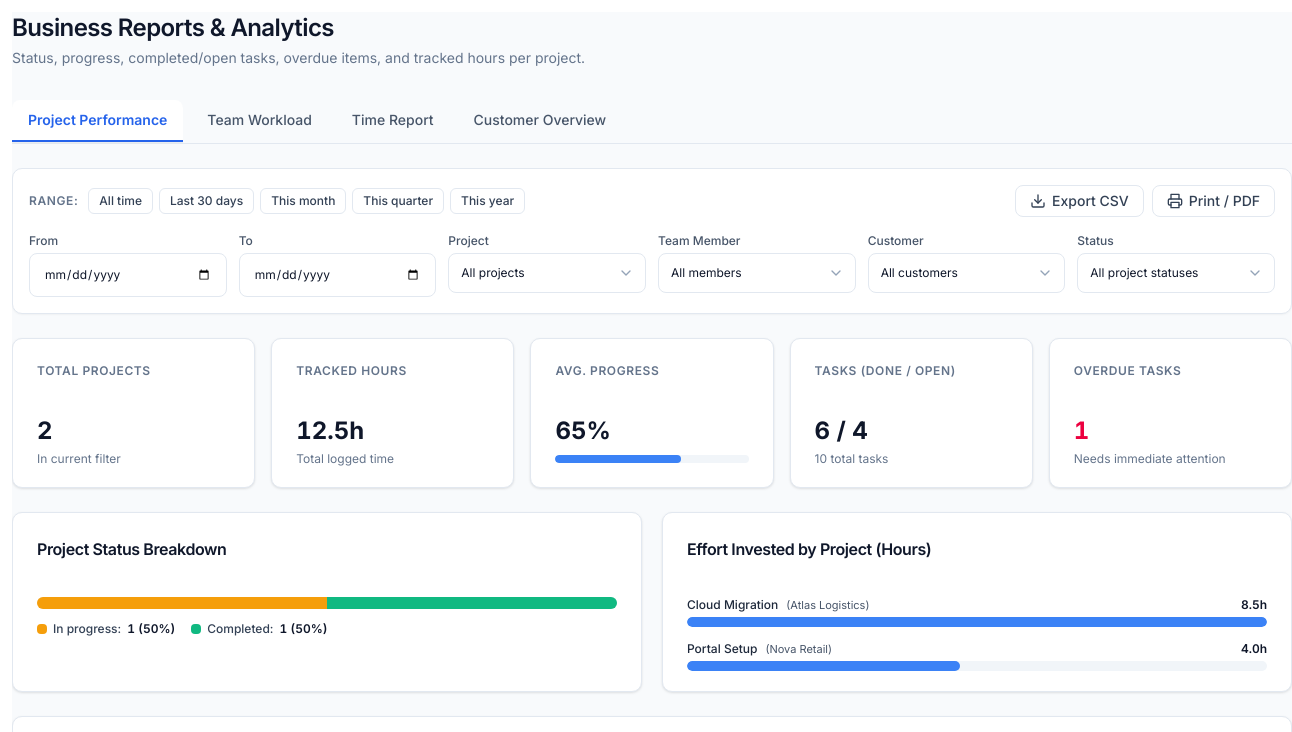
ReportsPage › applies date presets and updates filter state
Click the button "Last 30 days".
click(206, 201)  # box [159,188,254,214]
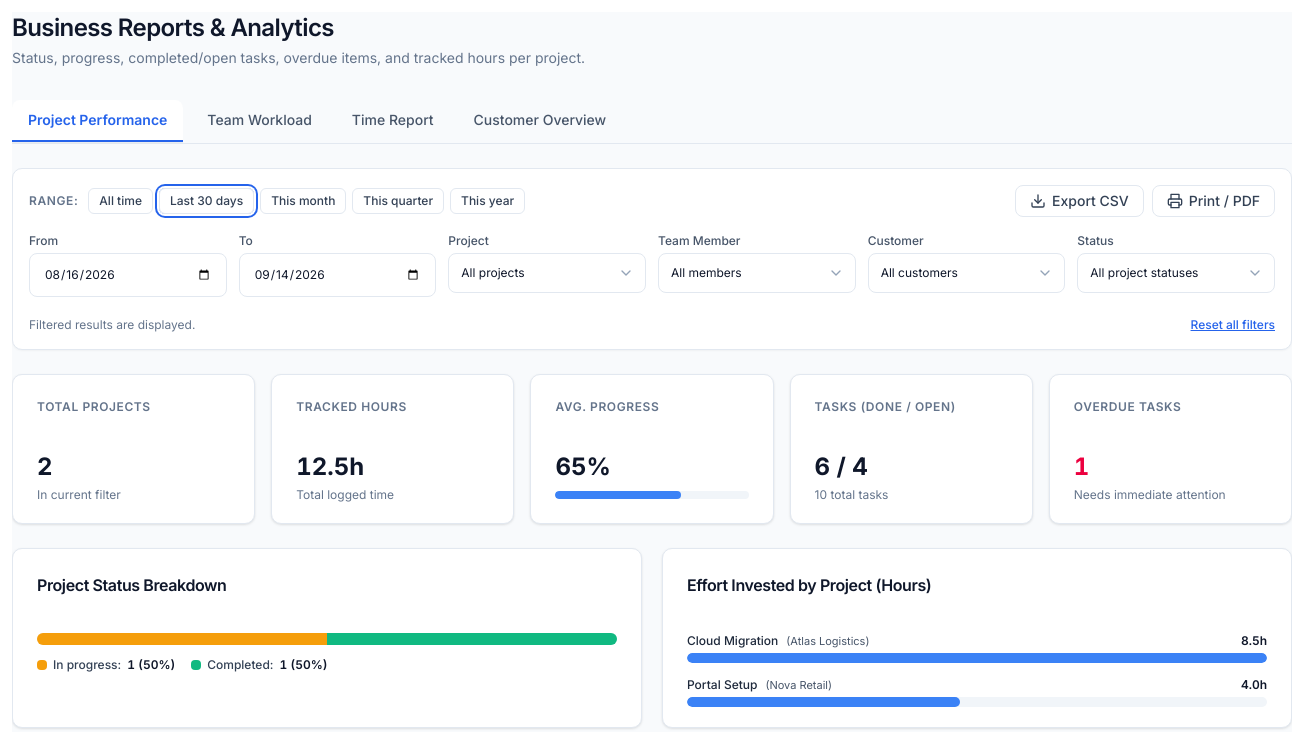
Check: the button "Reset all filters" is shown
Click the button "Reset all filters".
click(1233, 325)  # box [1190,317,1275,333]
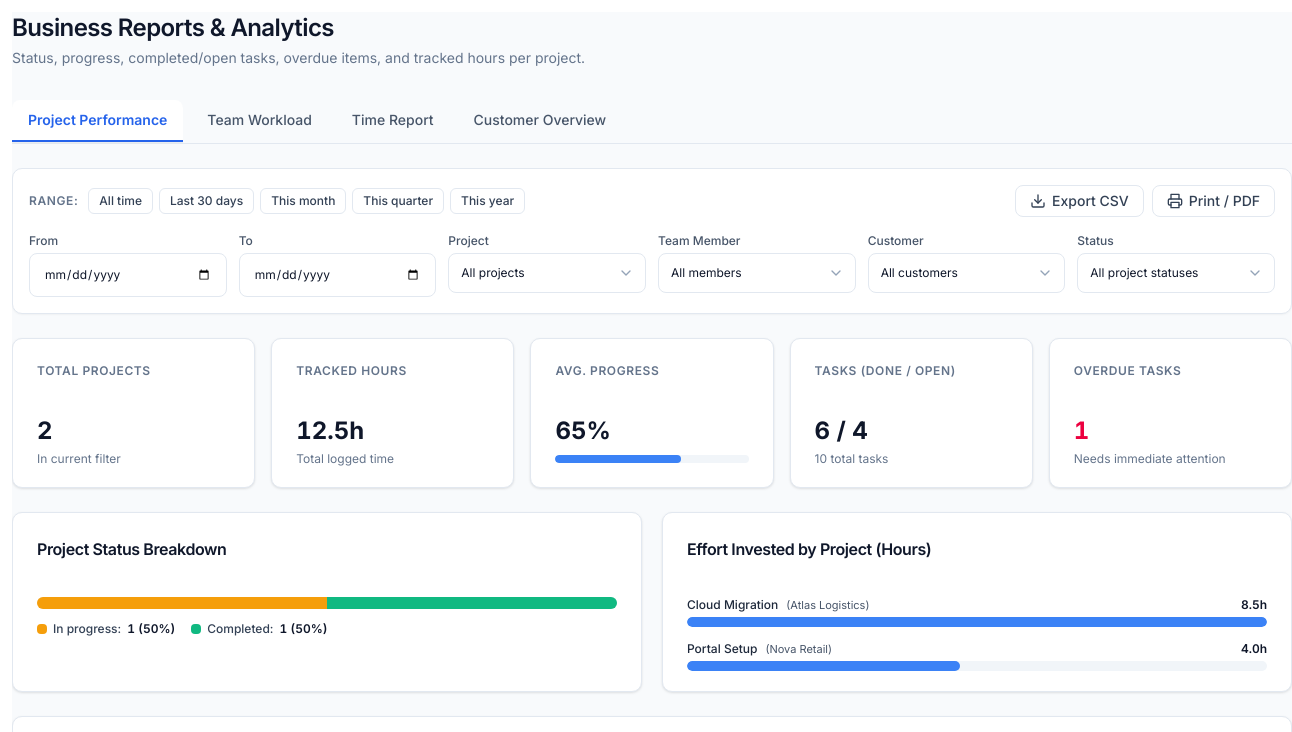
Check: the button "Reset all filters" is gone
